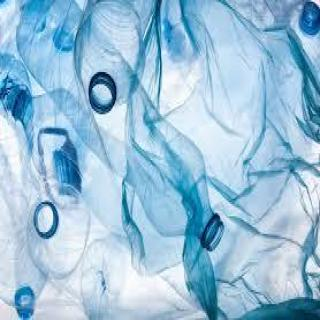Plastic-bottle: (16, 1, 230, 256), (25, 178, 125, 320), (76, 1, 160, 121)
